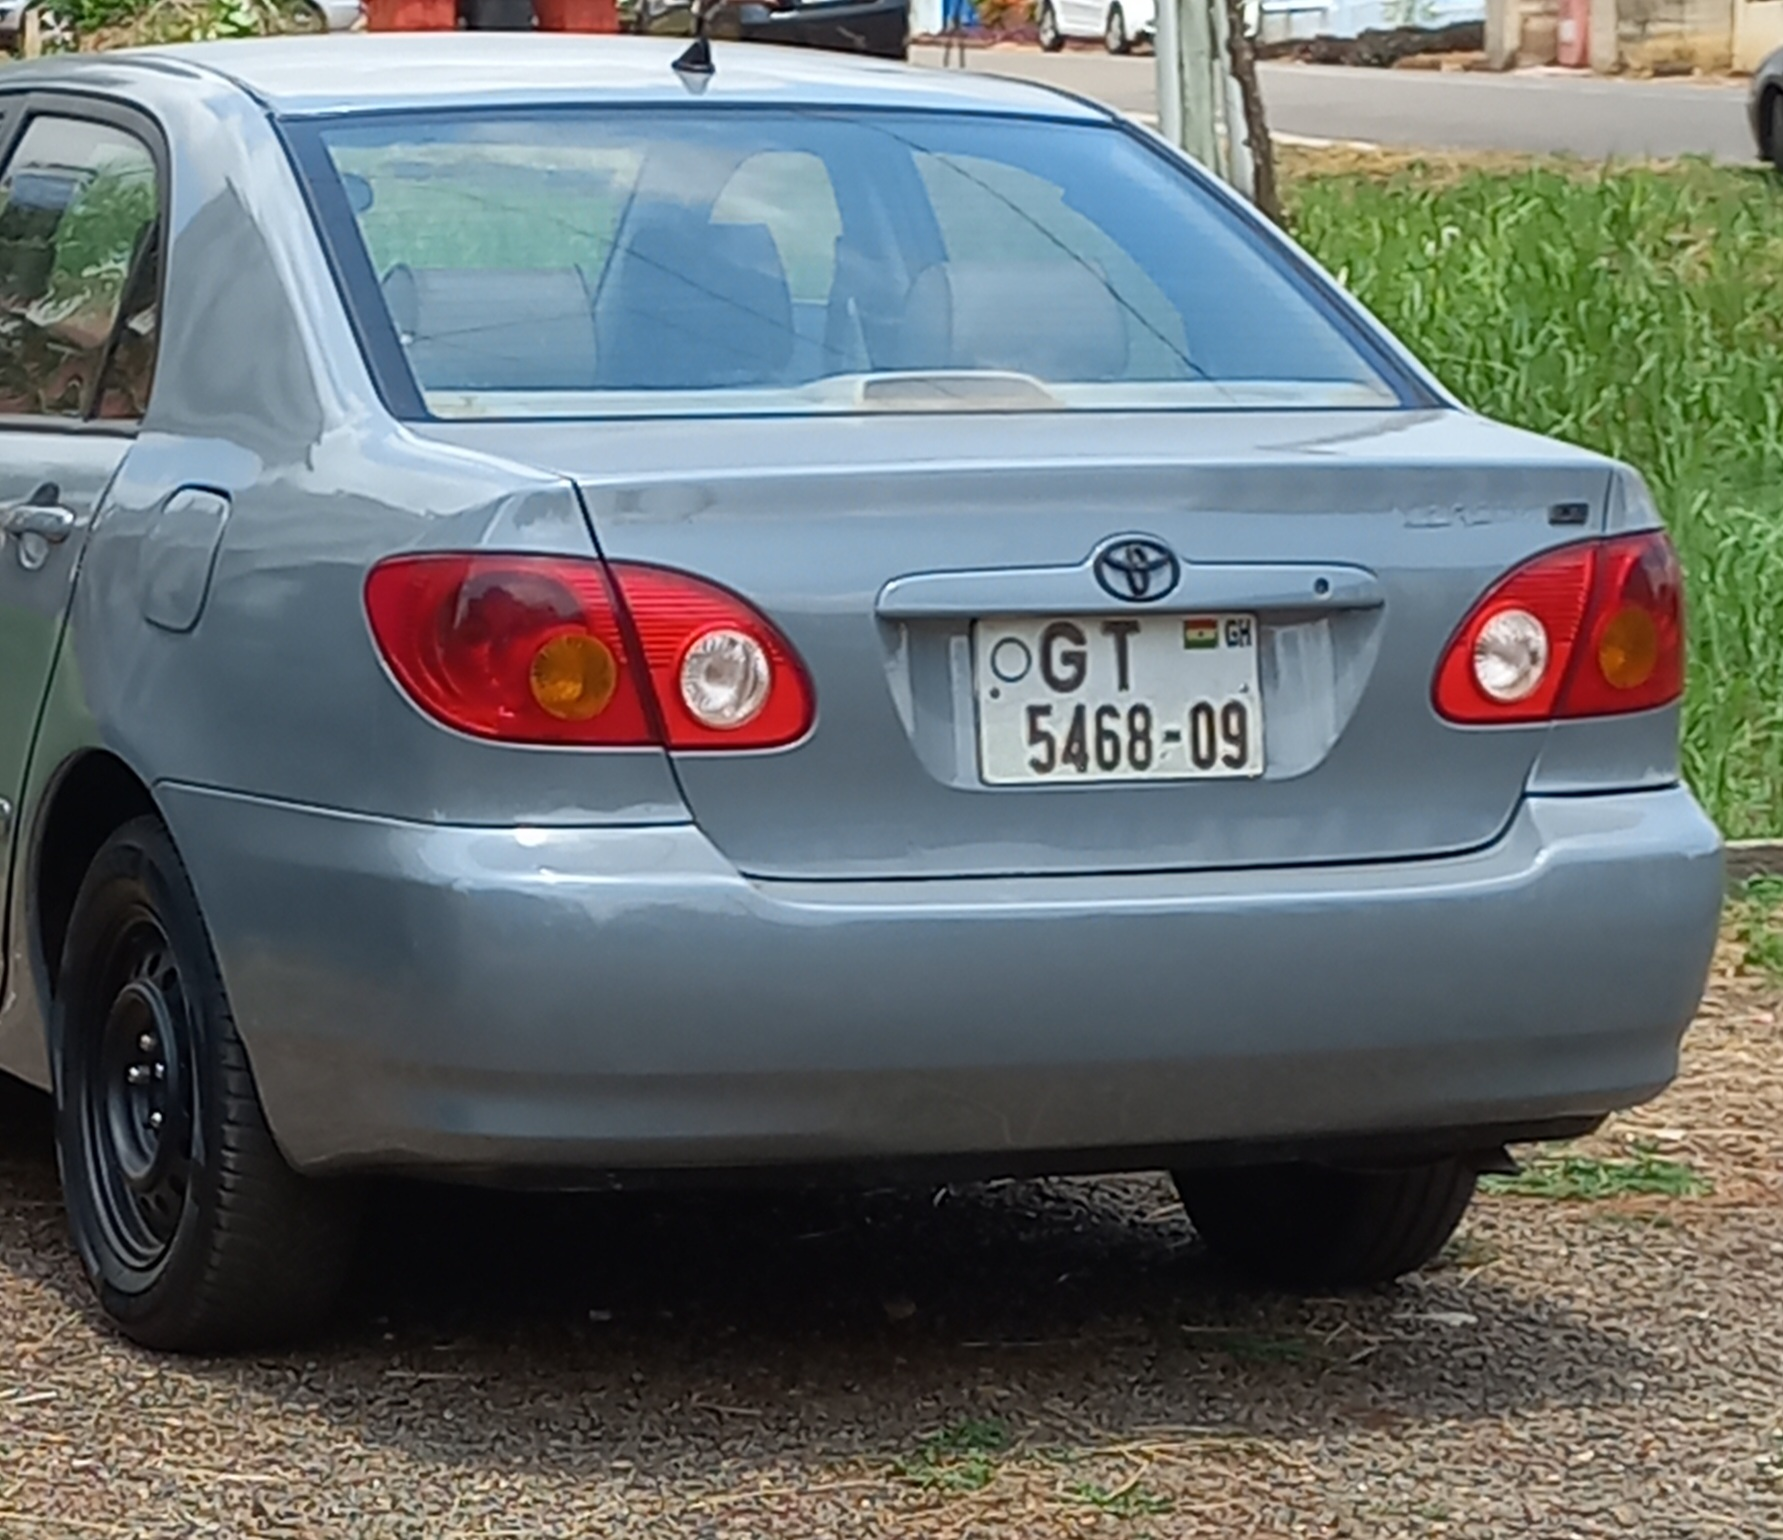number_plates: (984, 606, 1261, 783)
